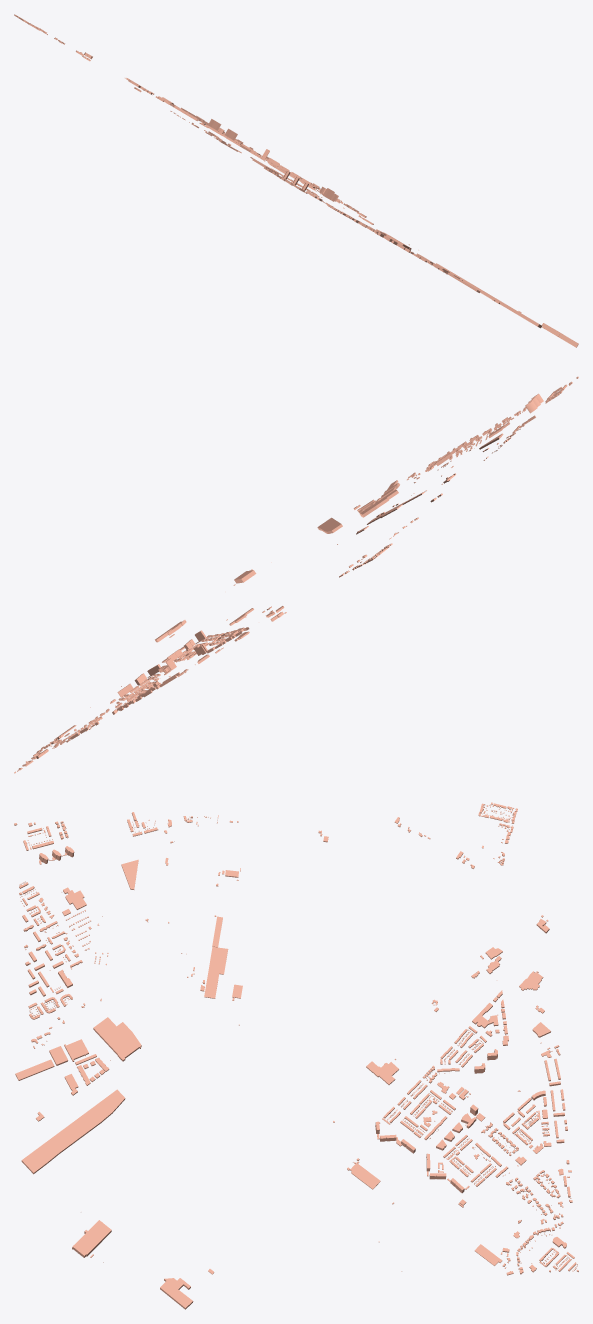
The picture shows the model from 3 angles, top to bottom: view 1: azimuth 30°, elevation 25°; view 2: azimuth 150°, elevation 25°; view 3: azimuth 270°, elevation 25°; orthographic projection. The views are drawn at different scales.
Bounding box in the file's own units: 2111 × 1573 × 2564.
